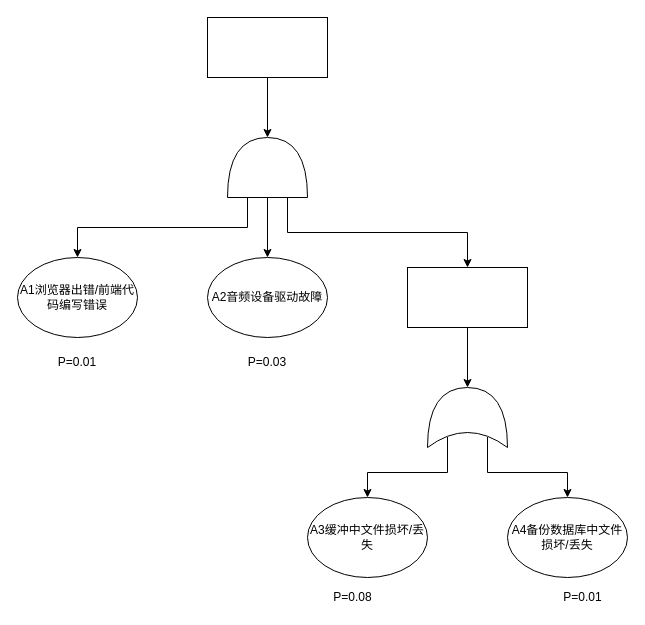
Image size: 645x625. Some labels were removed from this diagram. The shapes that lost their labels are listed below. From the top down, each one's centre as x and y in pixels, then its label:
At [267,47]: "G1歌曲无法播放".
At [467,297]: "G2服务器端故障".
